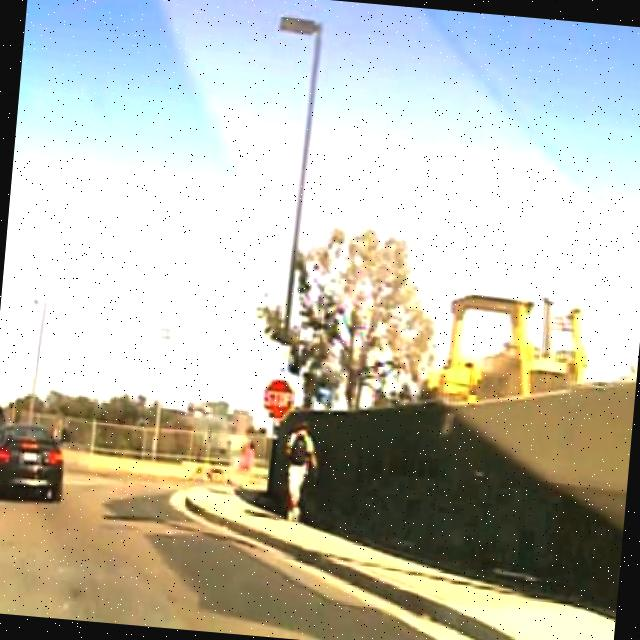Stop: (260, 377, 296, 421)
